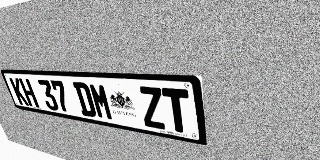3: (37, 79, 60, 111)
7: (49, 80, 73, 113)
D: (72, 82, 97, 118)
H: (18, 78, 39, 108)
K: (9, 78, 29, 106)
M: (88, 83, 114, 121)
T: (161, 88, 192, 134)
Z: (137, 86, 167, 130)
